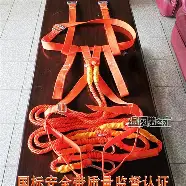safety belt: (38, 9, 149, 168)
